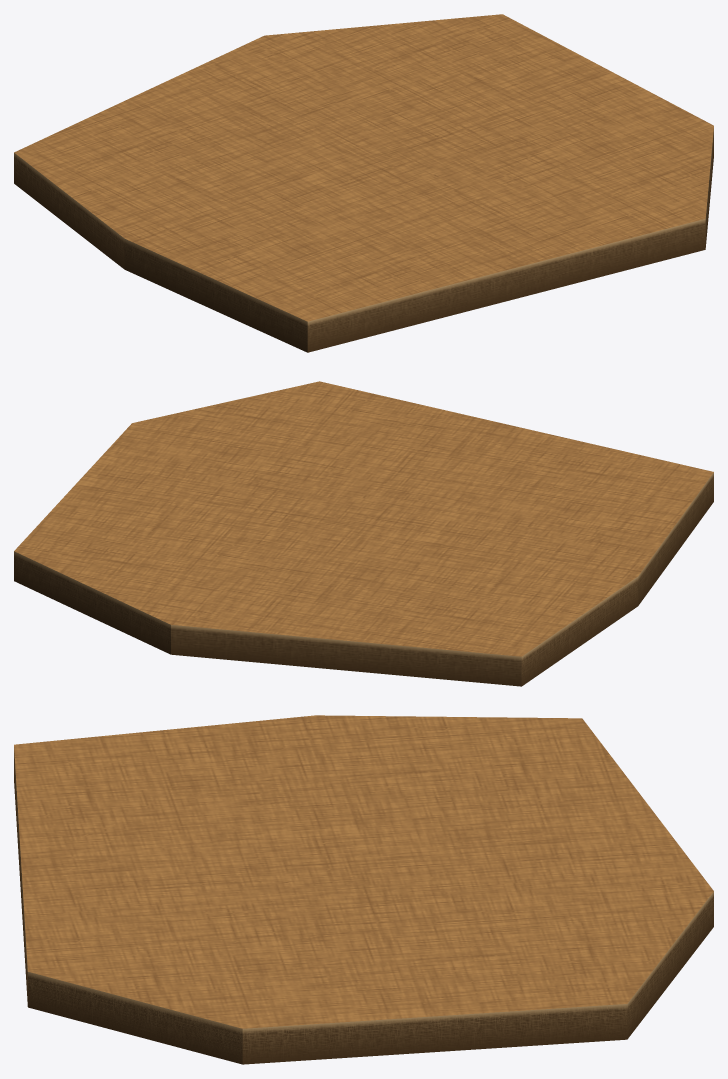
File: Terrain03_B.FBX
3 views of the same model, one above another, from view 1: azimuth 30°, elevation 25°; view 2: azimuth 150°, elevation 25°; view 3: azimuth 270°, elevation 25° (orthographic). The views are drawn at different scales.
Parts seen in each view (by area): view 1: Terrain03_B; view 2: Terrain03_B; view 3: Terrain03_B.
Boxes of the visible parts, left/top/right/bottom form: Terrain03_B: left=14, top=14, right=713, bottom=352; Terrain03_B: left=14, top=381, right=713, bottom=686; Terrain03_B: left=14, top=715, right=713, bottom=1064.
Size of the model in its own units: 945 by 50.36 by 892.
Materials: 1 (1 with a texture image).
